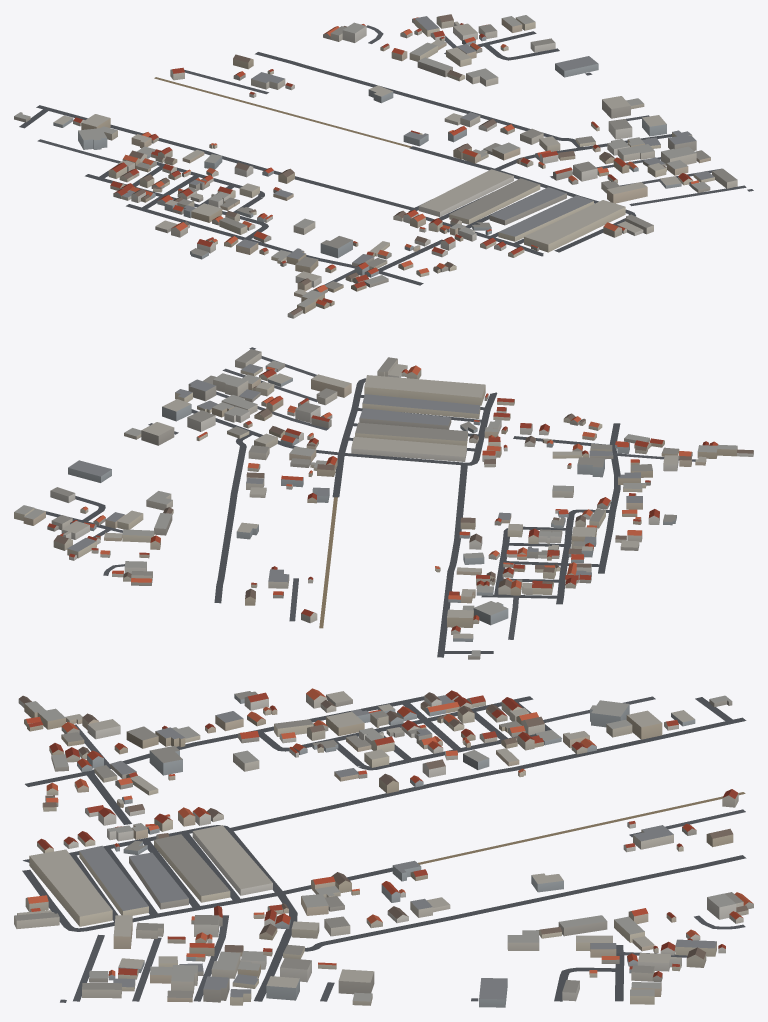
The picture shows the model from 3 angles, top to bottom: view 1: azimuth 30°, elevation 25°; view 2: azimuth 150°, elevation 25°; view 3: azimuth 270°, elevation 25°; orthographic projection. The views are drawn at different scales.
Visible parts, largest first — view 1: buildings_roofs, buildings_walls, roads; view 2: buildings_roofs, buildings_walls, roads; view 3: buildings_roofs, buildings_walls, roads.
Part boxes in pixels (box(x1,y1,x2,y2)): buildings_roofs: box(14, 14, 737, 315); buildings_walls: box(14, 16, 737, 318); roads: box(19, 25, 753, 285); buildings_roofs: box(14, 349, 753, 656); buildings_walls: box(14, 352, 753, 659); roads: box(34, 347, 695, 657); buildings_roofs: box(14, 688, 753, 1001); buildings_walls: box(14, 694, 753, 1007); roads: box(22, 696, 746, 1002).
Bounding box in the file's own units: 515 × 9.87 × 515.
